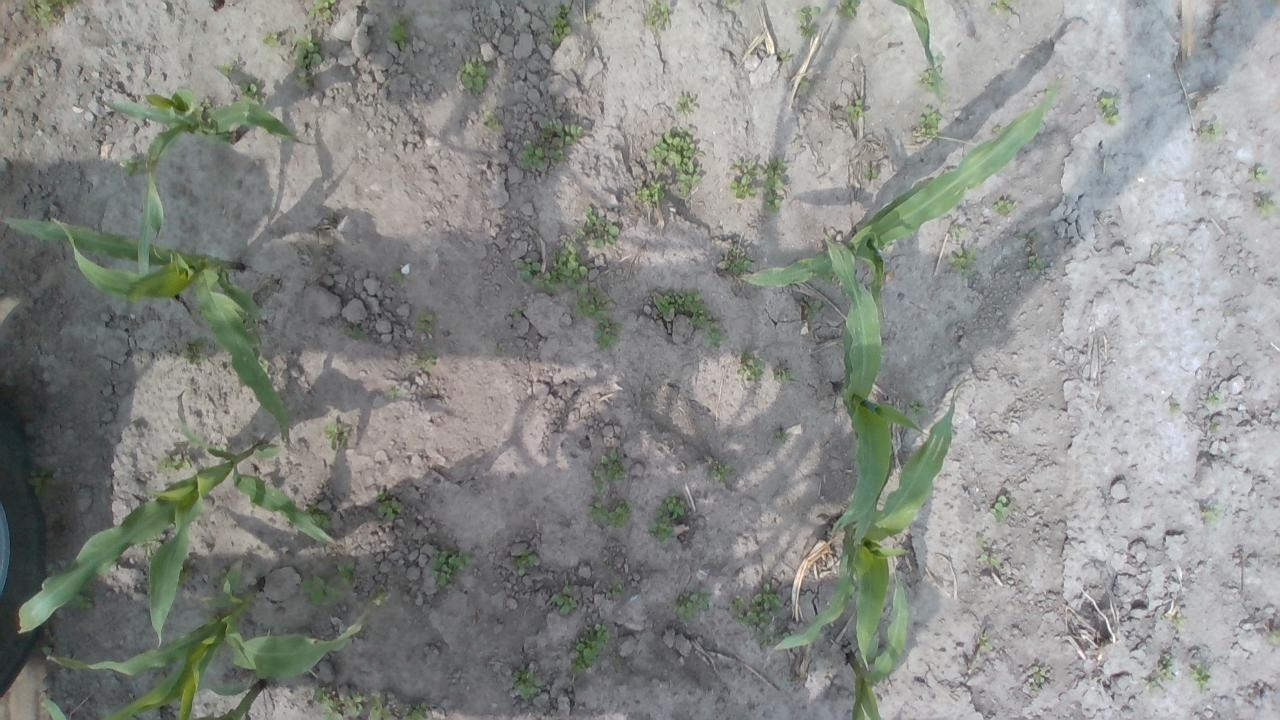Maize: (19, 393, 338, 648), (734, 81, 1068, 288), (1, 212, 292, 446), (46, 551, 368, 720), (770, 384, 956, 650), (102, 81, 318, 276), (846, 570, 916, 720), (860, 0, 949, 102), (38, 682, 266, 720)
Weeds: (647, 128, 702, 174), (654, 290, 712, 329), (733, 582, 782, 626), (569, 623, 611, 673), (646, 496, 686, 544), (510, 256, 560, 294), (313, 685, 367, 720), (551, 242, 591, 289), (576, 206, 620, 248), (590, 449, 627, 497), (429, 548, 473, 587), (568, 286, 614, 318), (539, 118, 584, 148), (761, 160, 786, 214), (512, 663, 546, 702), (672, 590, 710, 624), (728, 158, 758, 200), (590, 500, 632, 530), (290, 31, 324, 66), (302, 576, 340, 606), (62, 576, 96, 609), (459, 56, 486, 96), (593, 317, 623, 353), (912, 104, 941, 141), (27, 0, 58, 31), (736, 350, 766, 382), (549, 4, 571, 47), (374, 488, 401, 521), (387, 15, 412, 49), (759, 623, 794, 647), (550, 584, 578, 614), (26, 466, 54, 495), (702, 321, 729, 351), (304, 502, 332, 530), (797, 6, 820, 40), (918, 66, 944, 96), (721, 250, 753, 274), (643, 0, 670, 28), (519, 140, 544, 170), (1096, 96, 1121, 126), (676, 164, 700, 195), (950, 246, 976, 274), (638, 180, 665, 206), (158, 453, 192, 473), (238, 78, 264, 104), (367, 694, 392, 720), (515, 547, 536, 577), (799, 295, 825, 319), (1188, 663, 1212, 689), (990, 494, 1011, 523), (1256, 197, 1280, 222), (308, 0, 337, 20), (183, 343, 208, 366), (324, 422, 344, 450), (336, 559, 356, 585), (417, 341, 433, 373), (847, 96, 865, 124), (120, 158, 148, 176), (336, 322, 367, 338), (1198, 121, 1224, 140), (138, 536, 160, 557), (401, 703, 428, 720), (836, 0, 860, 18), (991, 0, 1018, 16), (1158, 654, 1173, 682), (991, 199, 1016, 215), (606, 577, 624, 599), (212, 567, 230, 588), (414, 309, 432, 330), (711, 463, 732, 481), (862, 167, 884, 184), (674, 95, 694, 113), (906, 400, 928, 416), (1201, 505, 1220, 522), (976, 552, 999, 566), (1205, 392, 1225, 408), (1250, 166, 1270, 182), (390, 270, 407, 288), (483, 111, 500, 128), (951, 224, 968, 241), (262, 30, 278, 48), (976, 633, 992, 651), (1028, 256, 1044, 274), (774, 368, 793, 383), (1032, 664, 1046, 684), (34, 644, 54, 656), (548, 148, 565, 162), (218, 63, 236, 75), (774, 429, 789, 443), (388, 384, 401, 399), (1270, 628, 1280, 646), (372, 591, 384, 606), (178, 574, 192, 586), (511, 305, 522, 320), (258, 358, 268, 374), (777, 52, 790, 64), (1168, 400, 1180, 413), (1209, 423, 1223, 434), (724, 0, 740, 9), (1146, 678, 1158, 690), (200, 98, 211, 111), (798, 78, 811, 88), (585, 14, 598, 24), (1174, 616, 1186, 626), (1013, 231, 1025, 241), (976, 534, 984, 546)
